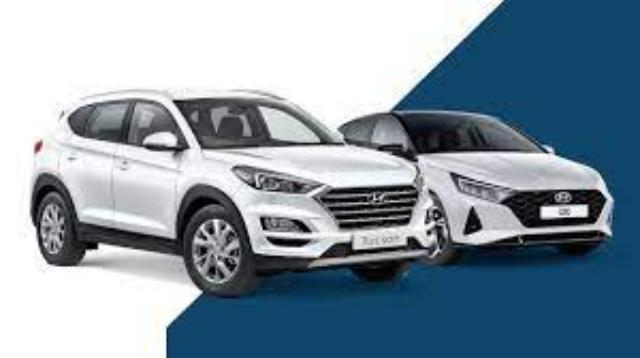hyundai: (29, 88, 438, 296), (337, 109, 615, 264)
